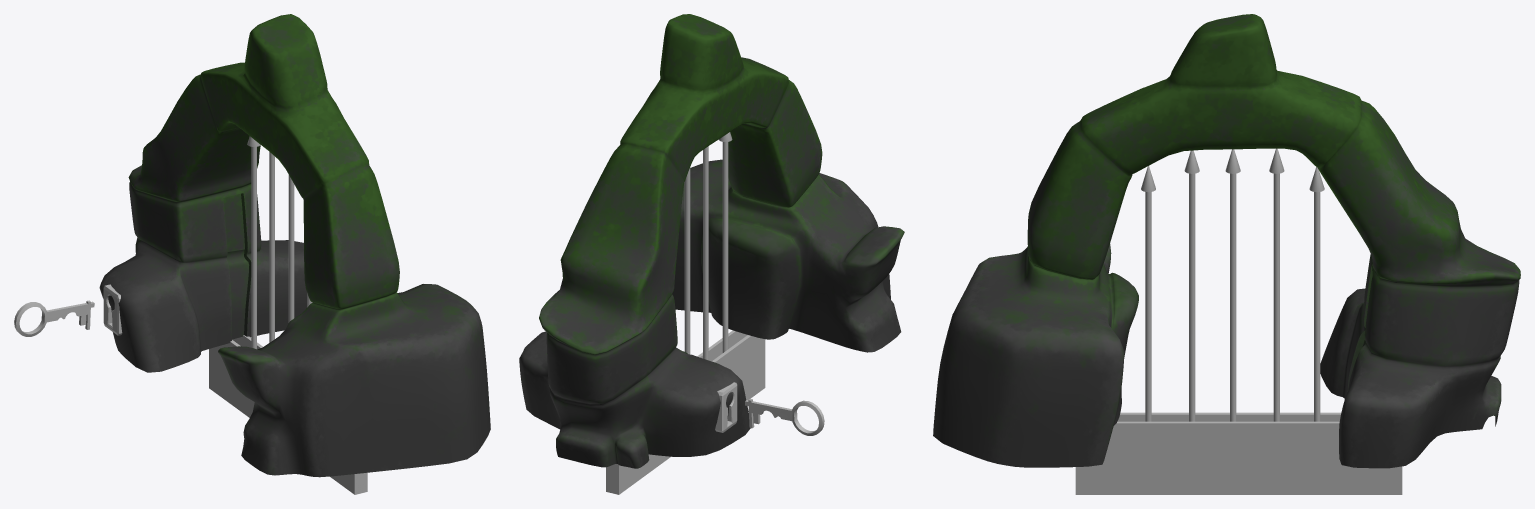
The model's file is Portcullis_Animation.fbx.
3 views of the same model, side by side, from view 1: azimuth 30°, elevation 25°; view 2: azimuth 150°, elevation 25°; view 3: azimuth 270°, elevation 25° (orthographic). The views are drawn at different scales.
Parts seen in each view (by area): view 1: Low_Poly_Arch:Mesh, gate, pCube1, key_Basic_1:pTorus3, lock:Mesh; view 2: Low_Poly_Arch:Mesh, gate, pCube1, key_Basic_1:pTorus3, lock:Mesh; view 3: Low_Poly_Arch:Mesh, pCube1, gate.
Part boxes in pixels (x1,y1,x2,y2): Low_Poly_Arch:Mesh: (99,14,490,477); gate: (247,136,312,349); pCube1: (209,335,367,494); key_Basic_1:pTorus3: (14,300,94,336); lock:Mesh: (103,284,122,335); Low_Poly_Arch:Mesh: (519,14,904,468); gate: (684,132,732,360); pCube1: (606,330,765,494); key_Basic_1:pTorus3: (745,398,824,435); lock:Mesh: (715,382,737,432); Low_Poly_Arch:Mesh: (933,14,1520,468); pCube1: (1075,412,1402,494); gate: (1141,148,1324,421).
Bounding box in the file's own units: 75.95 × 100 × 114.
